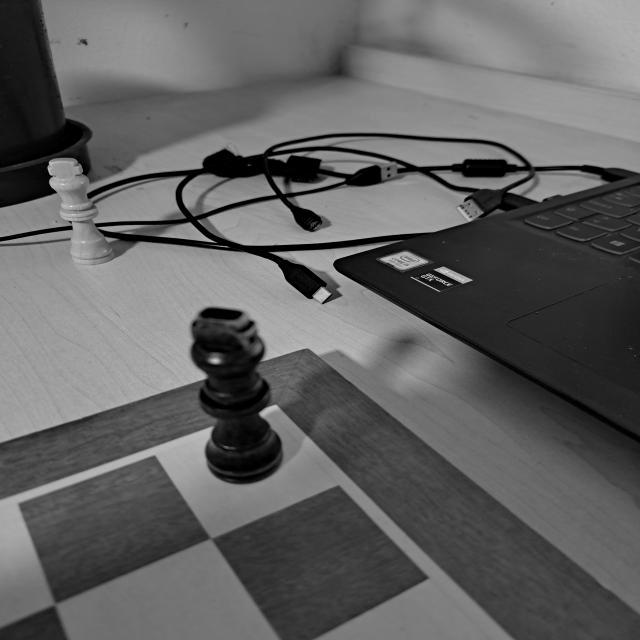chess-table-corners: (216, 388, 326, 446)
